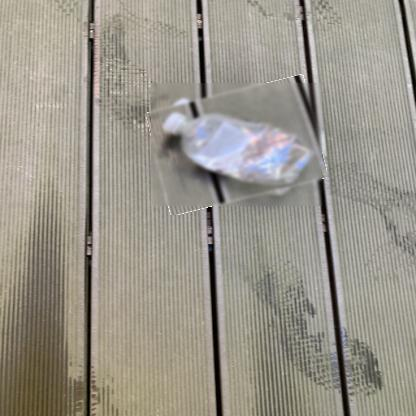plastic-bottles: (151, 83, 323, 207)
